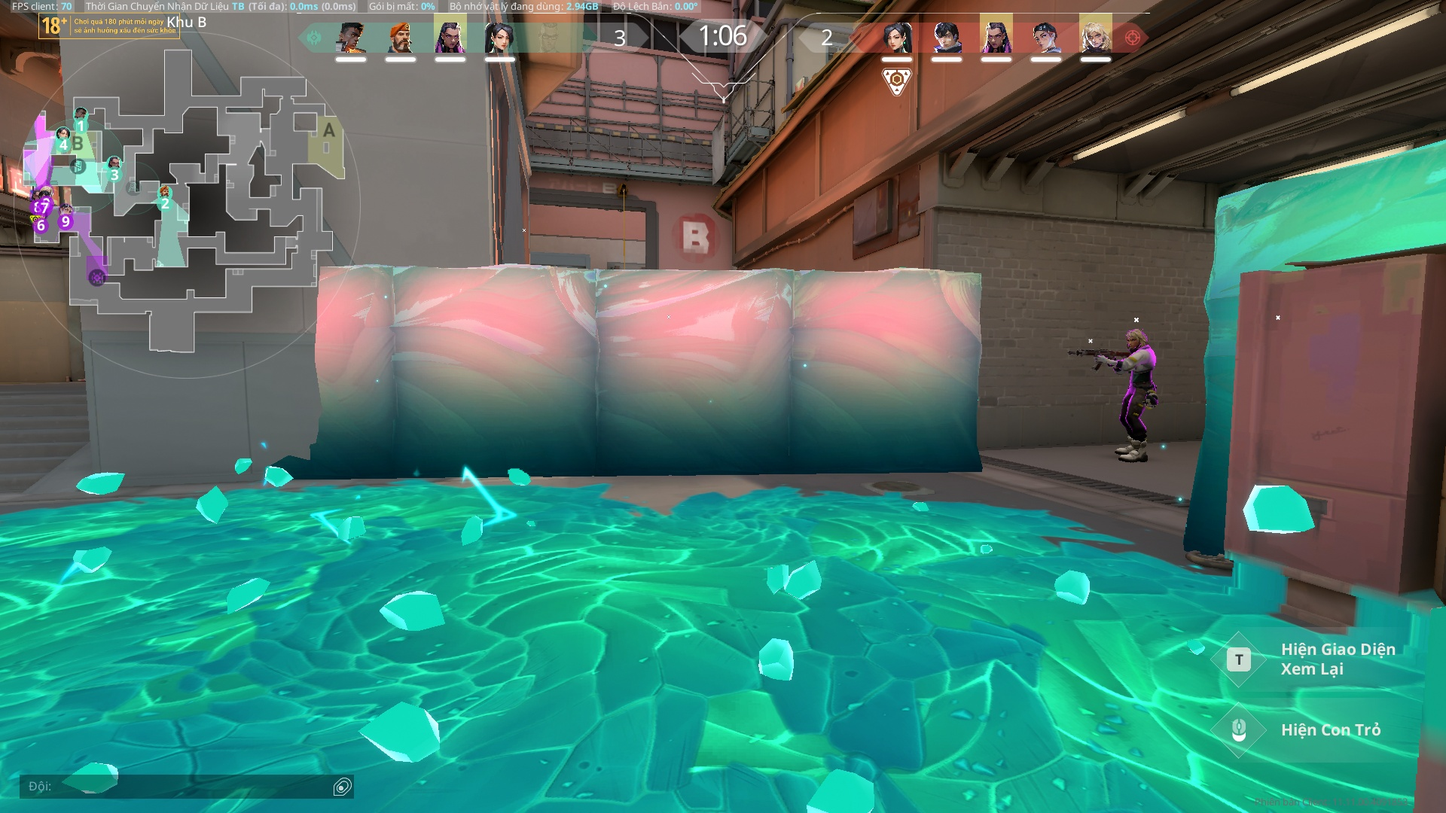body: (1124, 346, 1158, 393)
head: (1124, 327, 1148, 346)
